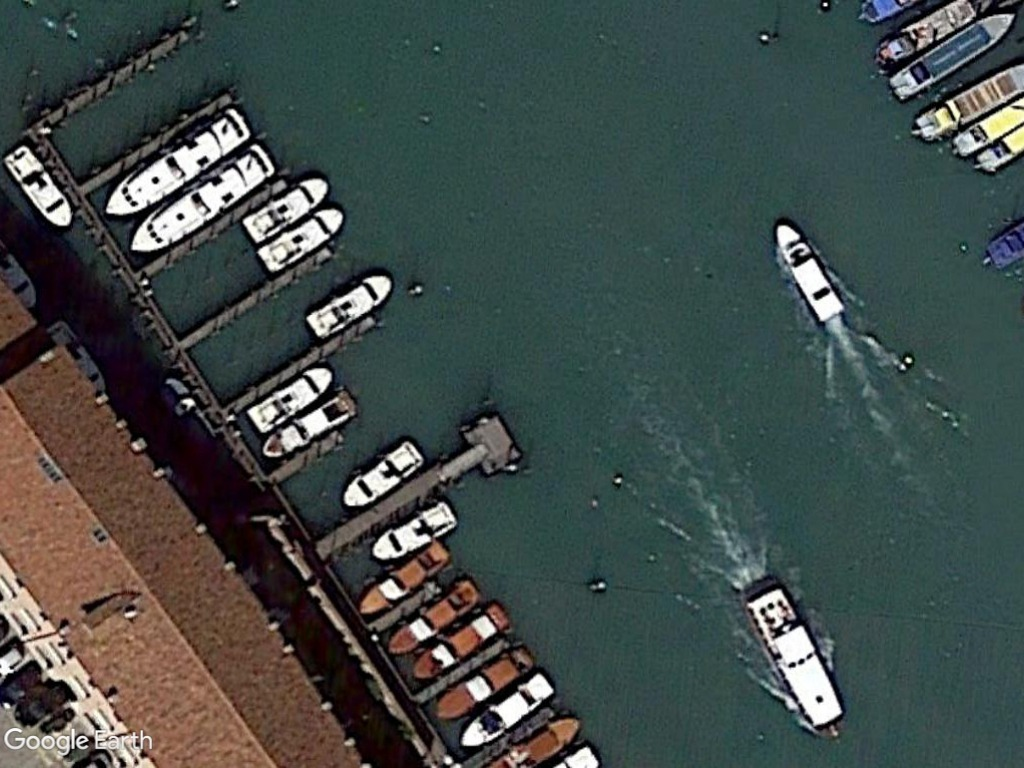boat: (127, 132, 274, 259), (101, 99, 249, 221), (741, 580, 849, 734), (887, 7, 1015, 106), (409, 599, 514, 687), (384, 571, 485, 657), (460, 665, 555, 756), (433, 641, 534, 722), (357, 540, 457, 618), (772, 220, 846, 325), (261, 385, 358, 462), (302, 267, 395, 346), (338, 430, 425, 514), (238, 170, 332, 247), (246, 361, 334, 438), (0, 138, 73, 230), (255, 202, 344, 277), (370, 493, 461, 566)
